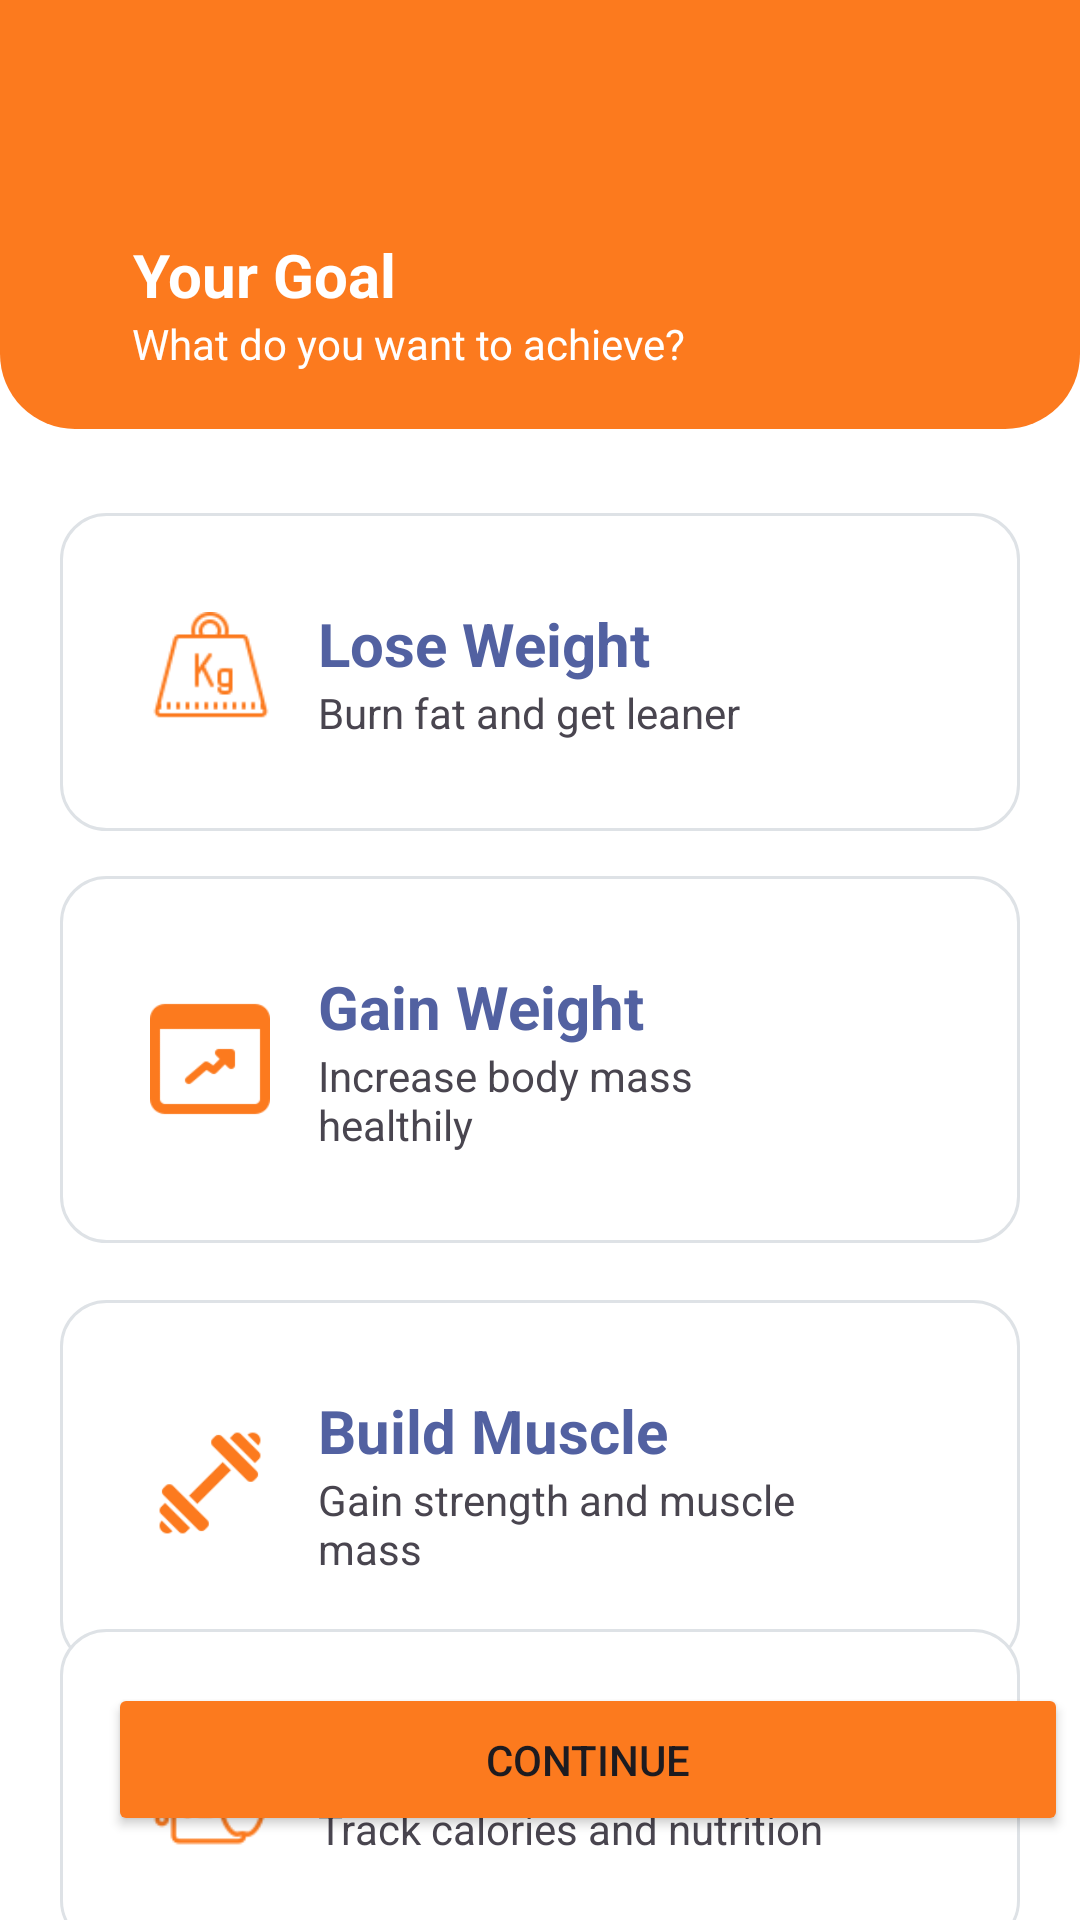

Where icons sit on this 1080 × 1920 app screen, as region(x1, y1, x2, y2):
loss weight: region(153, 612, 268, 718)
